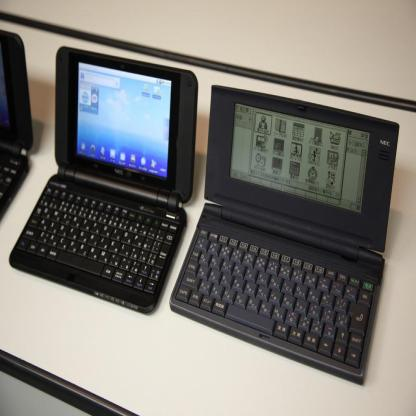board: (165, 52, 392, 402), (9, 47, 198, 311), (0, 30, 32, 223)
